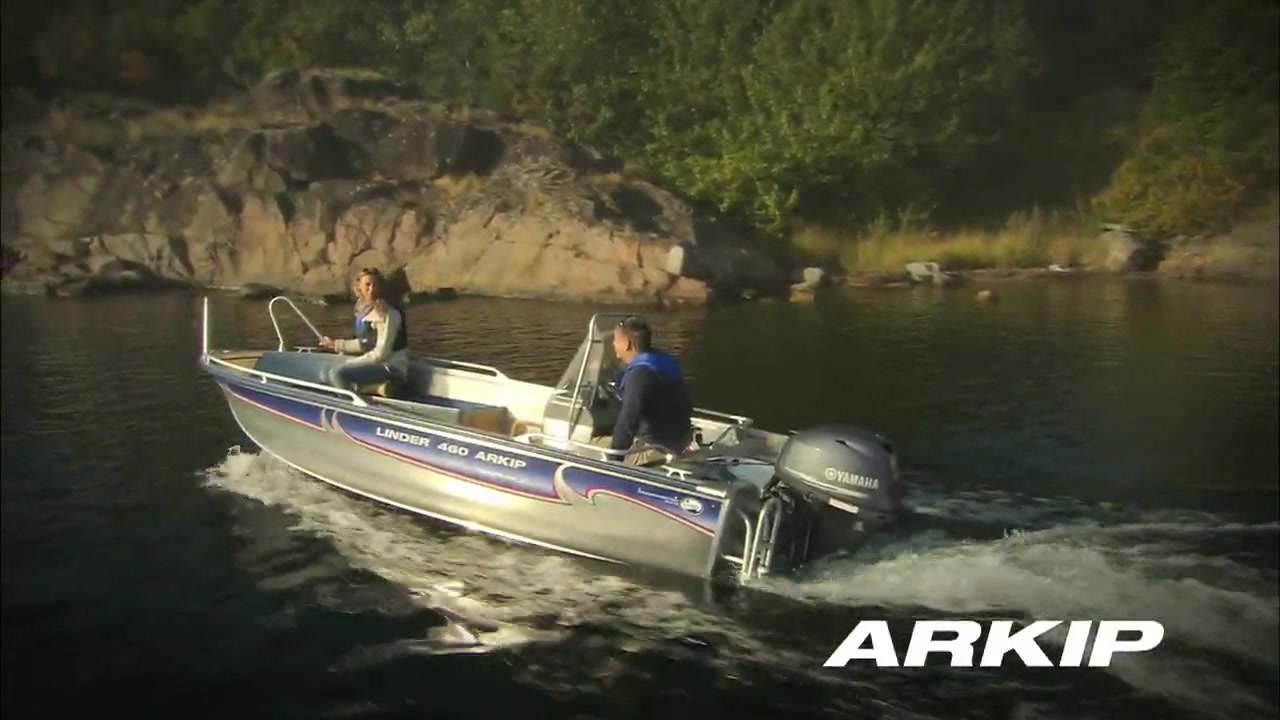boat: (195, 287, 908, 598)
